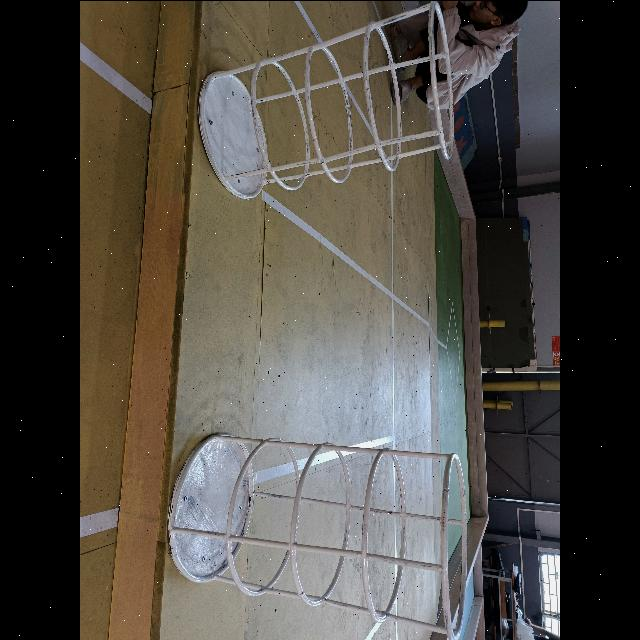S: (164, 429, 469, 640), (198, 0, 455, 199)
